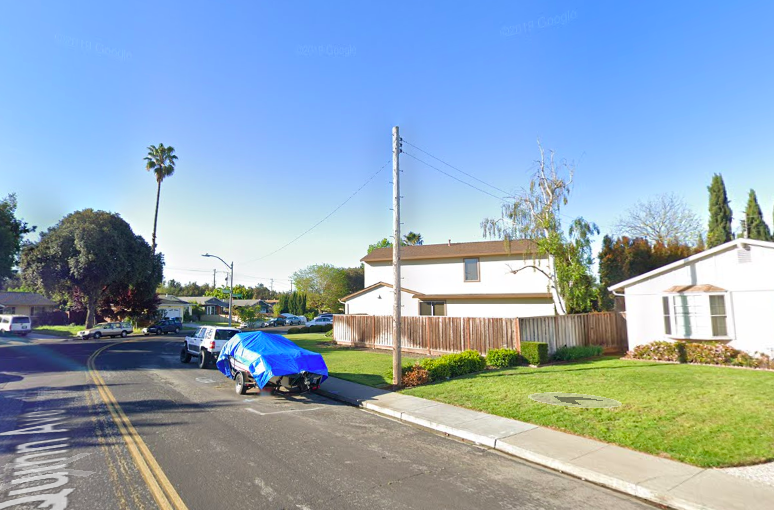tree: (17, 206, 165, 338)
utility_pole: (377, 117, 413, 183)
